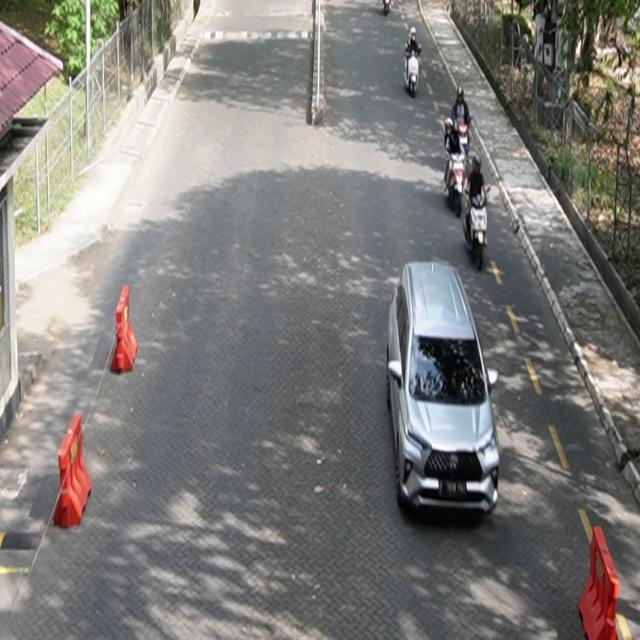car: (386, 260, 501, 518)
